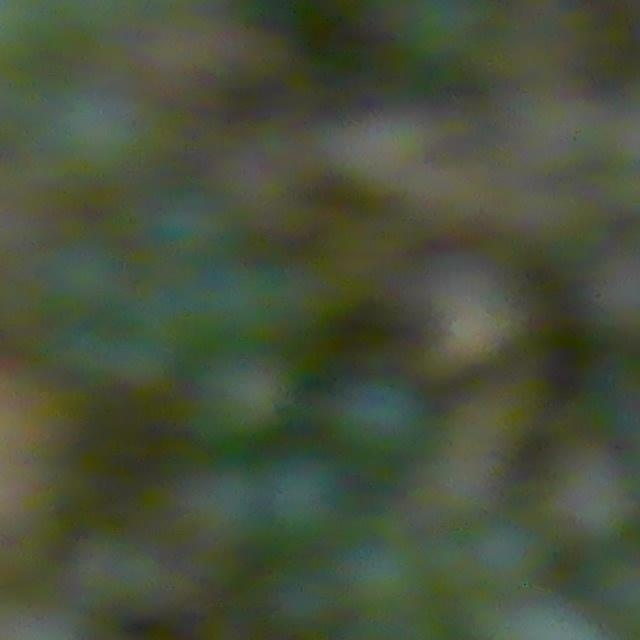SeaGrape: (24, 63, 138, 173), (132, 179, 243, 281), (196, 345, 286, 440), (39, 236, 129, 326), (320, 373, 410, 459), (253, 459, 339, 530), (470, 516, 546, 589), (182, 473, 244, 554)
